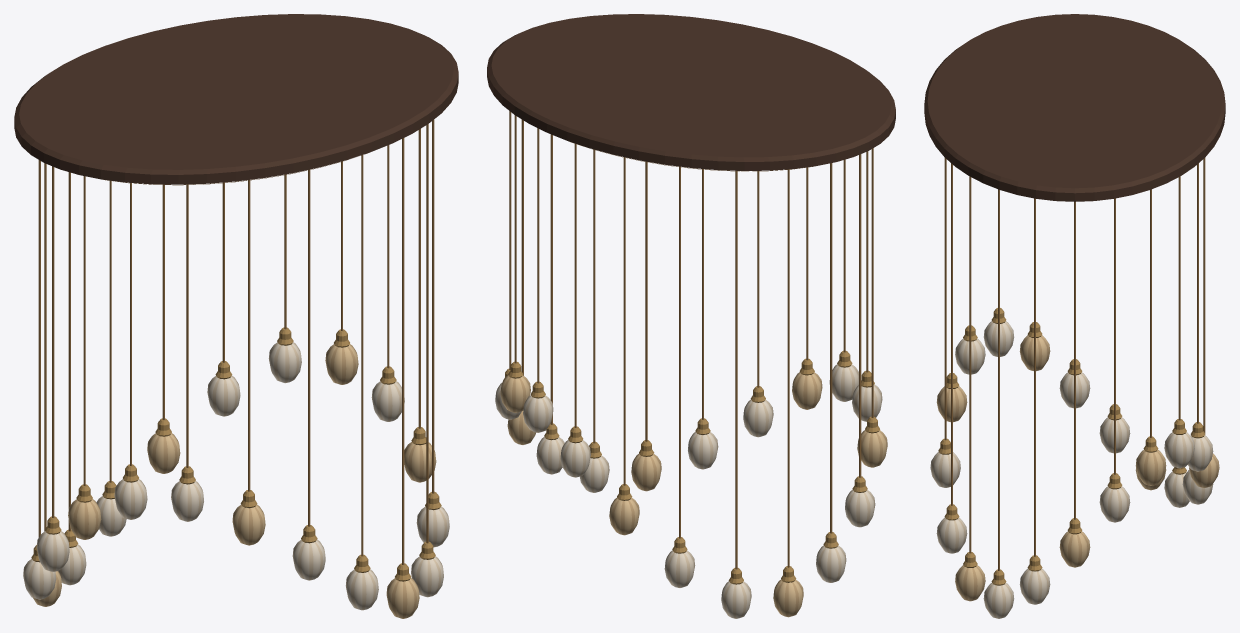
Rendered from hotel-pendant.glb.
The picture shows the model from 3 angles, left to right: view 1: azimuth 30°, elevation 25°; view 2: azimuth 150°, elevation 25°; view 3: azimuth 270°, elevation 25°; orthographic projection. The views are drawn at different scales.
Visible parts, largest first — view 1: Surface, Diffuser; view 2: Surface, Diffuser; view 3: Surface, Diffuser.
Part boxes in pixels (bbox=[...]): Surface: bbox=[14, 14, 458, 581]; Diffuser: bbox=[23, 342, 449, 618]; Surface: bbox=[487, 14, 895, 584]; Diffuser: bbox=[495, 364, 887, 618]; Surface: bbox=[924, 14, 1225, 585]; Diffuser: bbox=[930, 321, 1219, 618].
Bounding box in the file's own units: 2.87 × 3.4 × 2.05.
